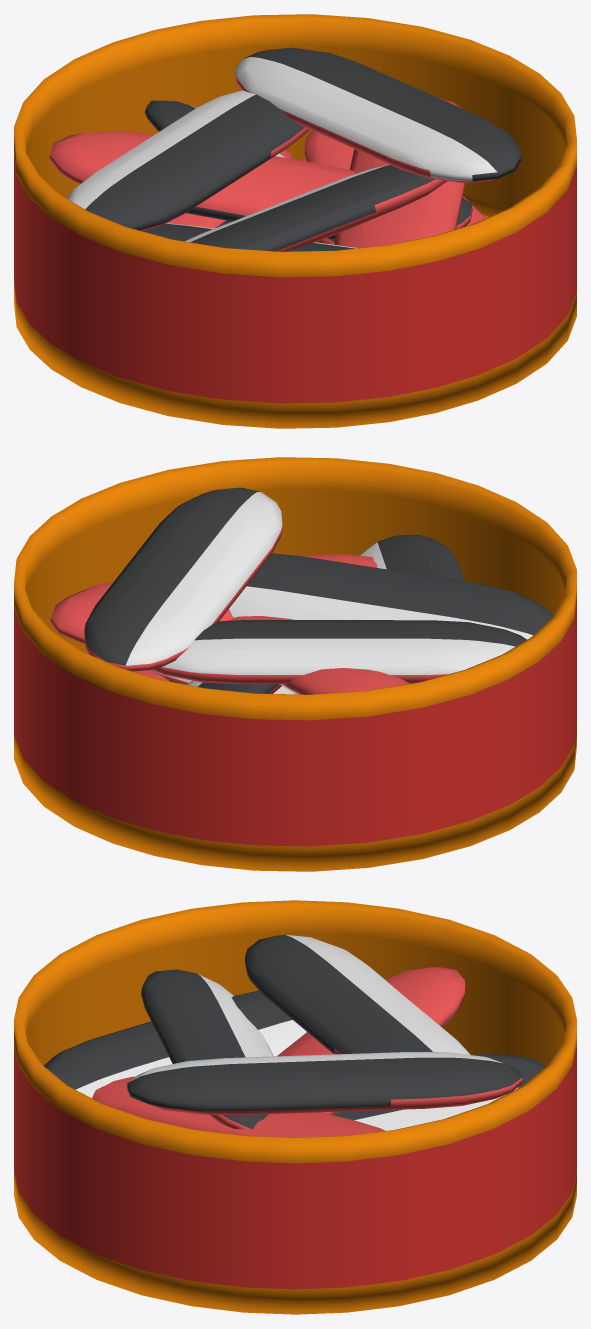
The model's file is Surstromming.fbx.
The picture shows the model from 3 angles, top to bottom: view 1: azimuth 30°, elevation 25°; view 2: azimuth 150°, elevation 25°; view 3: azimuth 270°, elevation 25°; orthographic projection.
Parts seen in each view (by area): view 1: Surface, Mball.011, Mball.009, Mball.006, Mball.003, Mball.010, Mball.008, Mball.007, Mball.002, Mball.004; view 2: Surface, Mball.011, Mball.009, Mball.006, Mball.007, Mball.003, Mball.010, Mball.002; view 3: Surface, Mball.011, Mball.009, Mball.006, Mball.007, Mball.010, Mball.003, Mball.002.
Boxes of the visible parts, x1,y1,x2,y2 form: Surface: (14,14,576,428); Mball.011: (235,47,520,182); Mball.009: (67,90,309,230); Mball.006: (185,164,446,251); Mball.003: (49,131,355,238); Mball.010: (334,98,465,248); Mball.008: (304,130,485,225); Mball.007: (142,223,357,251); Mball.002: (144,100,334,244); Mball.004: (167,149,291,228); Surface: (14,457,576,871); Mball.011: (84,487,282,671); Mball.009: (151,620,526,684); Mball.006: (229,553,553,639); Mball.007: (359,535,465,581); Mball.003: (230,616,409,694); Mball.010: (50,554,377,643); Mball.002: (187,680,281,693); Surface: (14,900,576,1314); Mball.011: (127,1052,522,1114); Mball.009: (245,934,470,1054); Mball.006: (141,969,273,1129); Mball.007: (44,990,306,1097); Mball.010: (92,1076,384,1137); Mball.003: (277,966,465,1115); Mball.002: (334,1054,546,1130).
Size of the model in its own units: 834 by 304 by 834.
